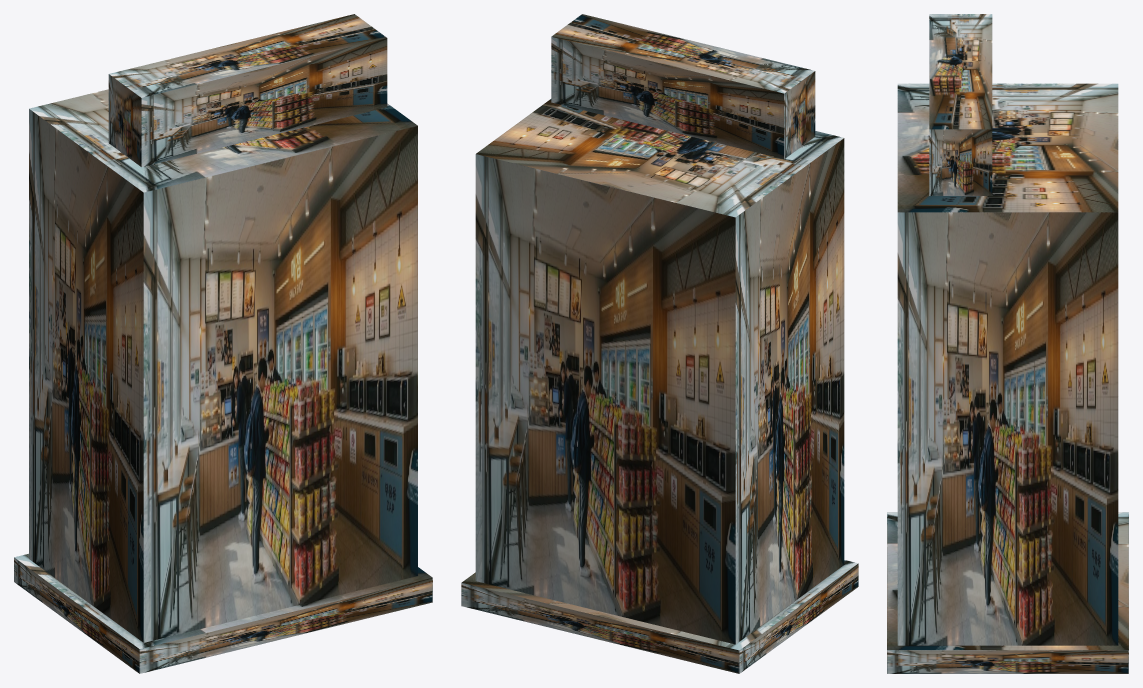
File: sf_anim_vending_arcade.glb
3 views of the same model, side by side, from view 1: azimuth 30°, elevation 25°; view 2: azimuth 150°, elevation 25°; view 3: azimuth 270°, elevation 25° (orthographic). The views are drawn at different scales.
Visible parts, largest first — view 1: SchoolVendingKiosk_Root, SchoolVendingKiosk_AnimPart; view 2: SchoolVendingKiosk_Root, SchoolVendingKiosk_AnimPart; view 3: SchoolVendingKiosk_Root, SchoolVendingKiosk_AnimPart.
Part boxes in pixels (box(x1,y1,x2,y2)): SchoolVendingKiosk_Root: box(14, 89, 432, 673); SchoolVendingKiosk_AnimPart: box(108, 14, 387, 167); SchoolVendingKiosk_Root: box(461, 99, 858, 673); SchoolVendingKiosk_AnimPart: box(551, 14, 815, 159); SchoolVendingKiosk_Root: box(887, 83, 1128, 673); SchoolVendingKiosk_AnimPart: box(929, 14, 992, 195).
Bounding box in the file's own units: 1.24 × 2.24 × 0.92.
1 material, 1 textured.
